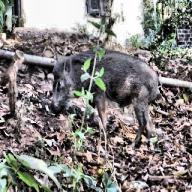boar: (49, 47, 170, 148)
